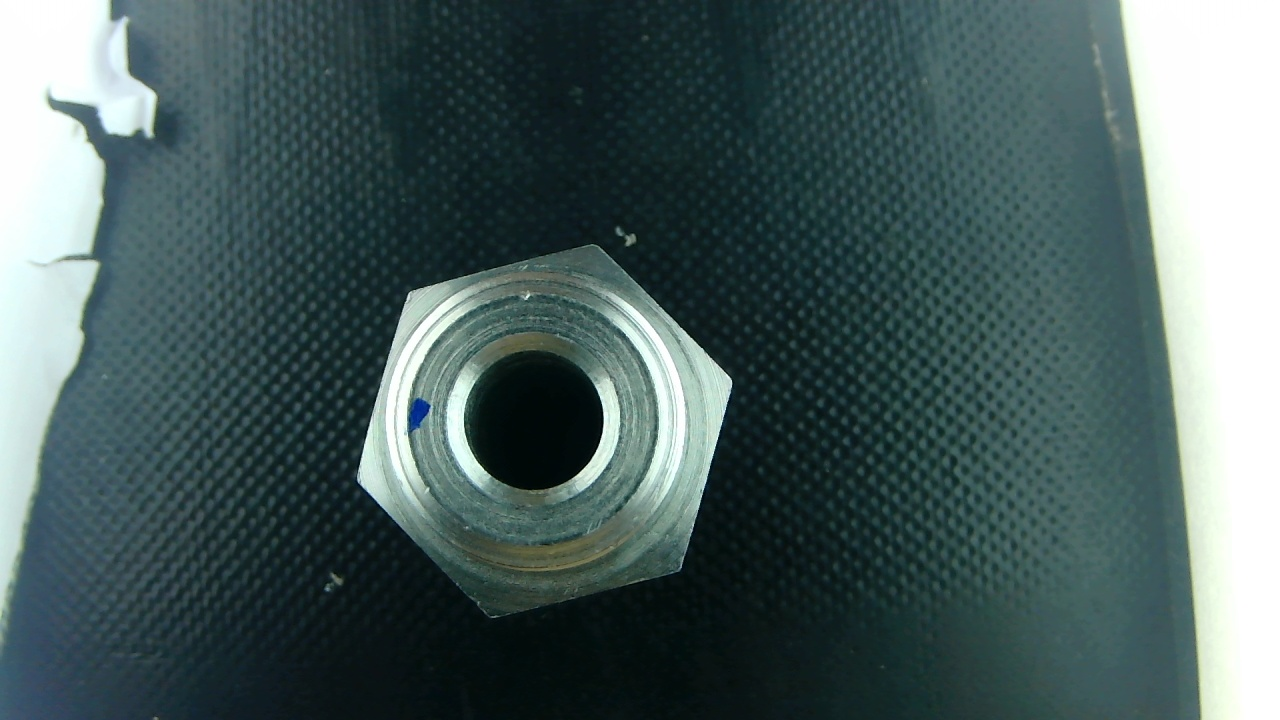okay_adapter: (358, 246, 731, 616)
